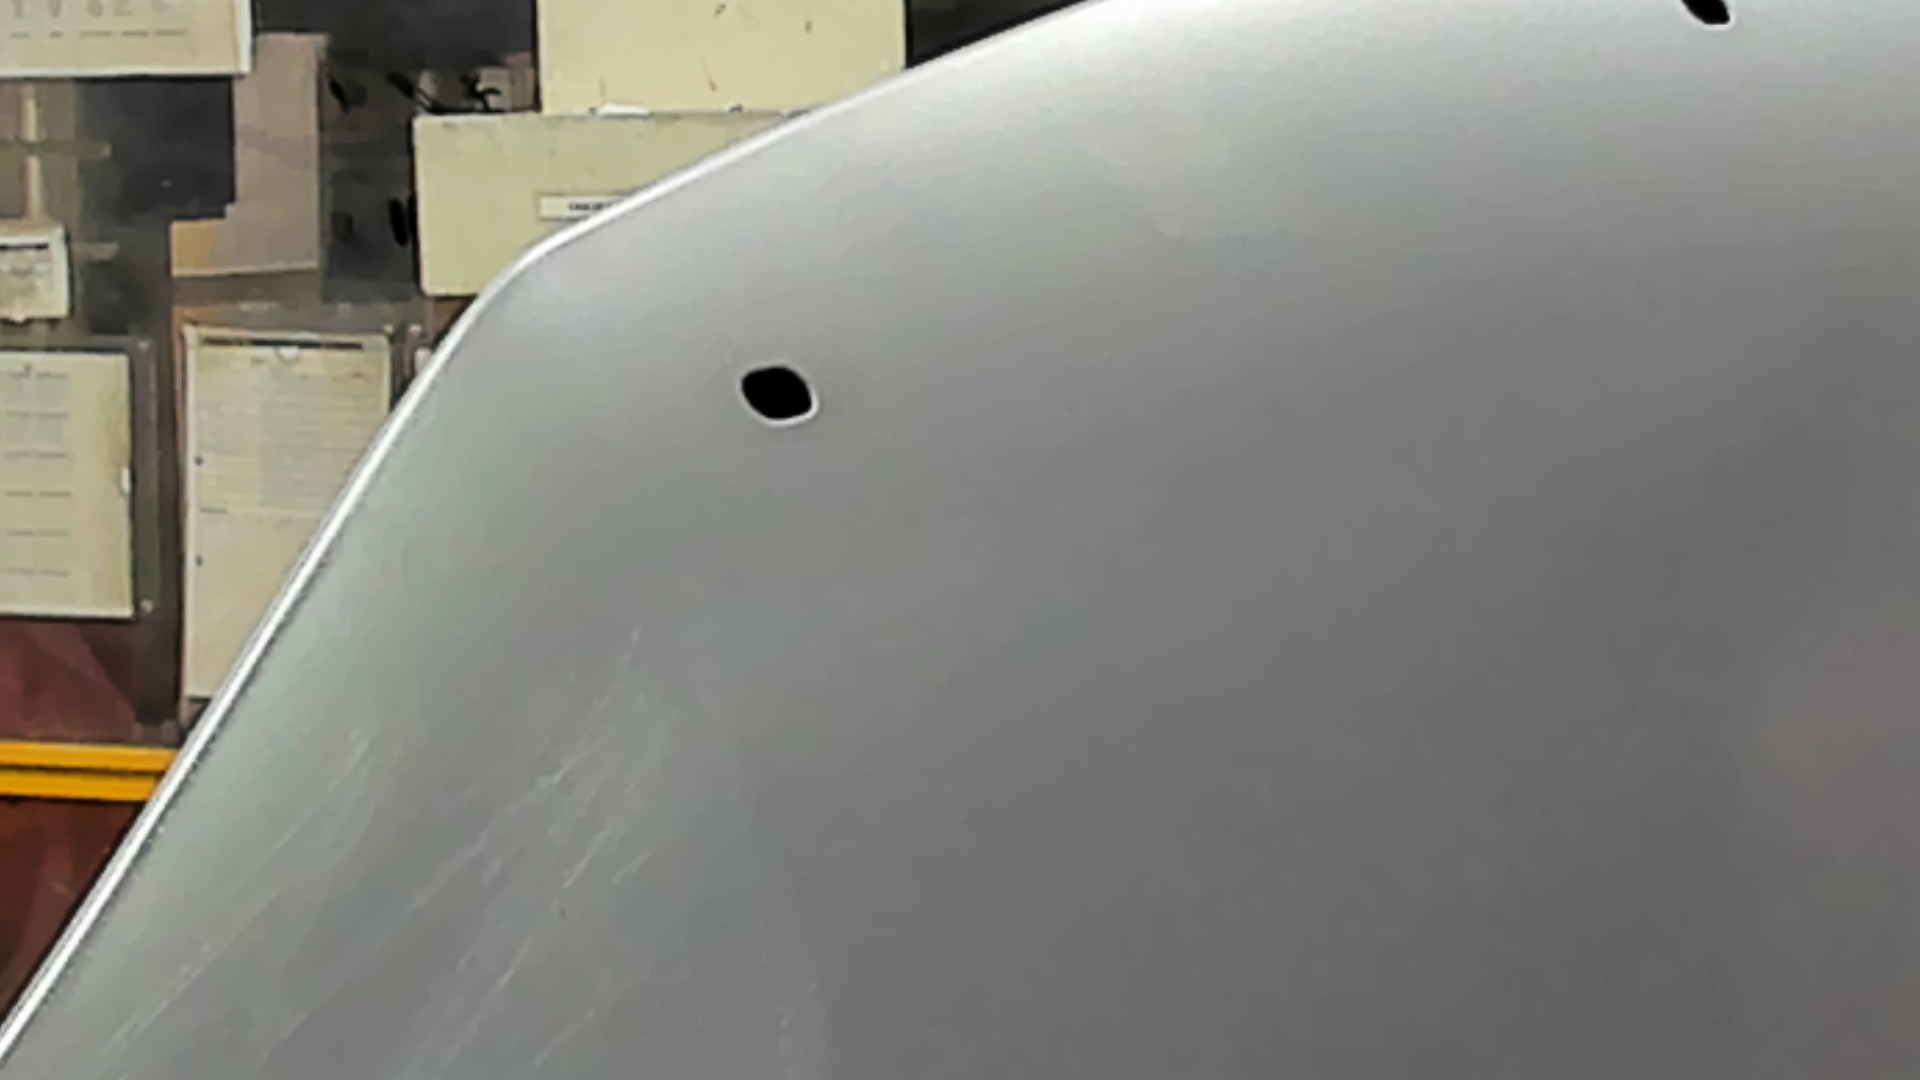amorfo: (733, 356, 825, 429), (1675, 1, 1741, 36)
